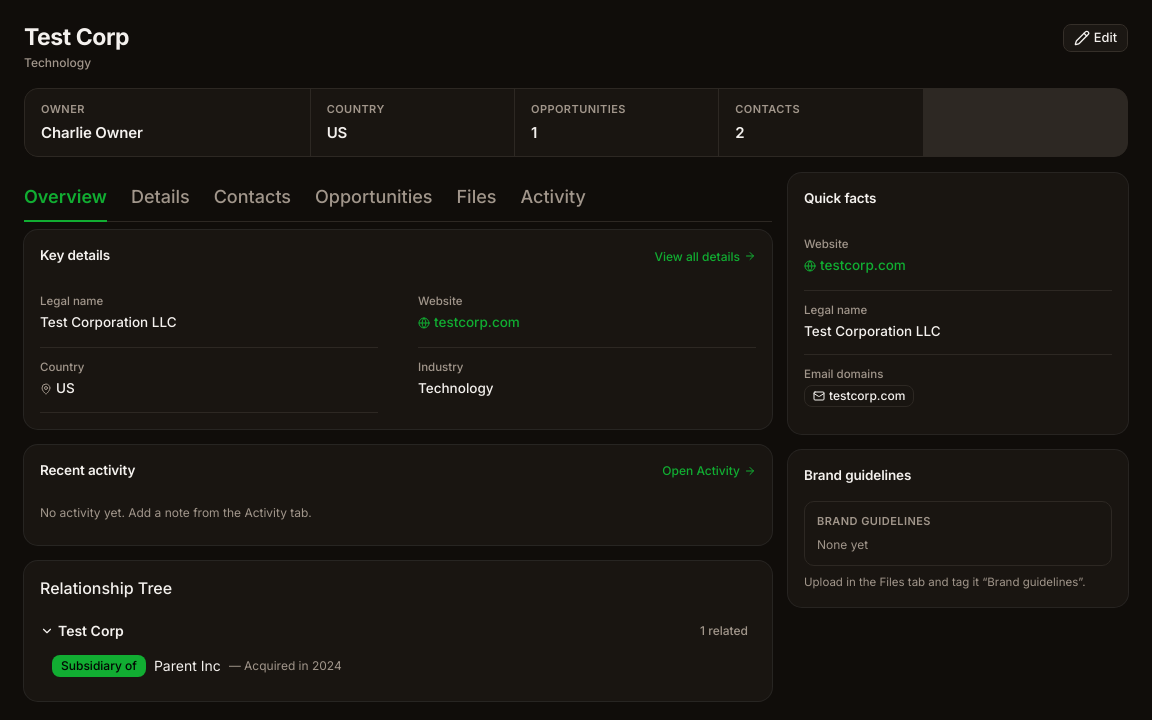
it: AccountDetailWrapper › overview tab (default) › 'View all details' jumps to the Details tab
Click the button "View all details".
click(705, 256)  # box [654, 248, 756, 265]
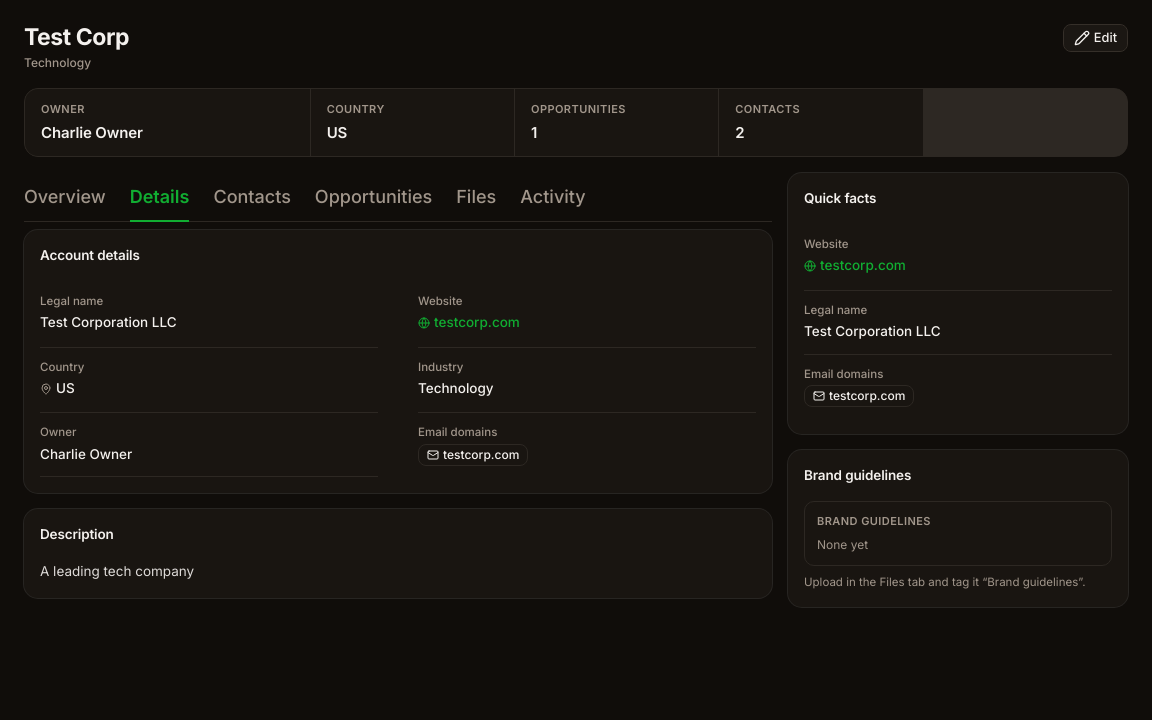
Result: the text "Account details" is shown at [40, 247, 140, 263]
